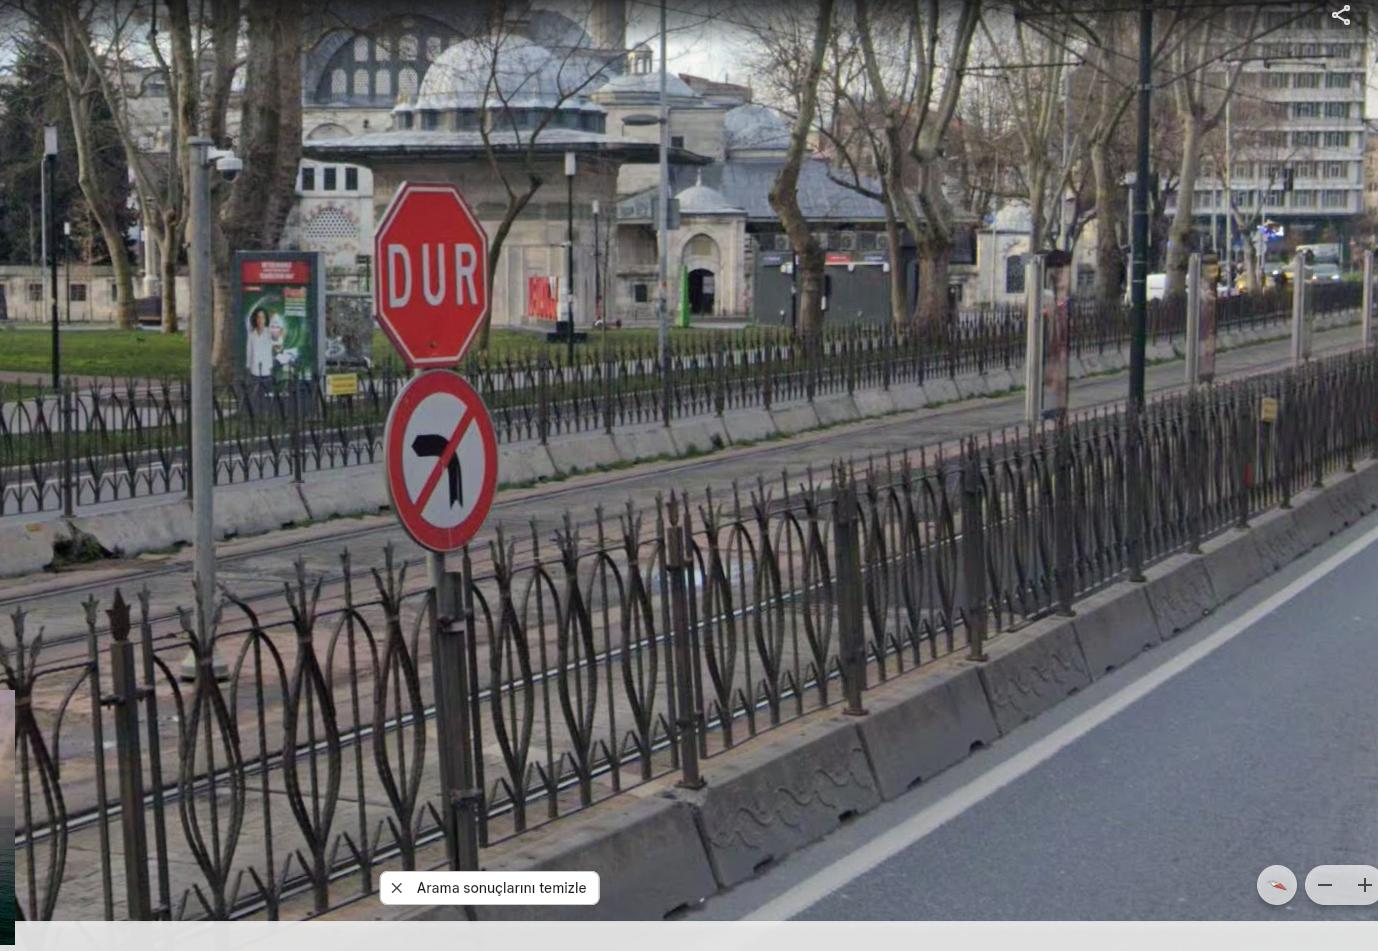leftturnsareforbidden: (387, 368, 495, 549)
stop: (376, 183, 491, 360)
